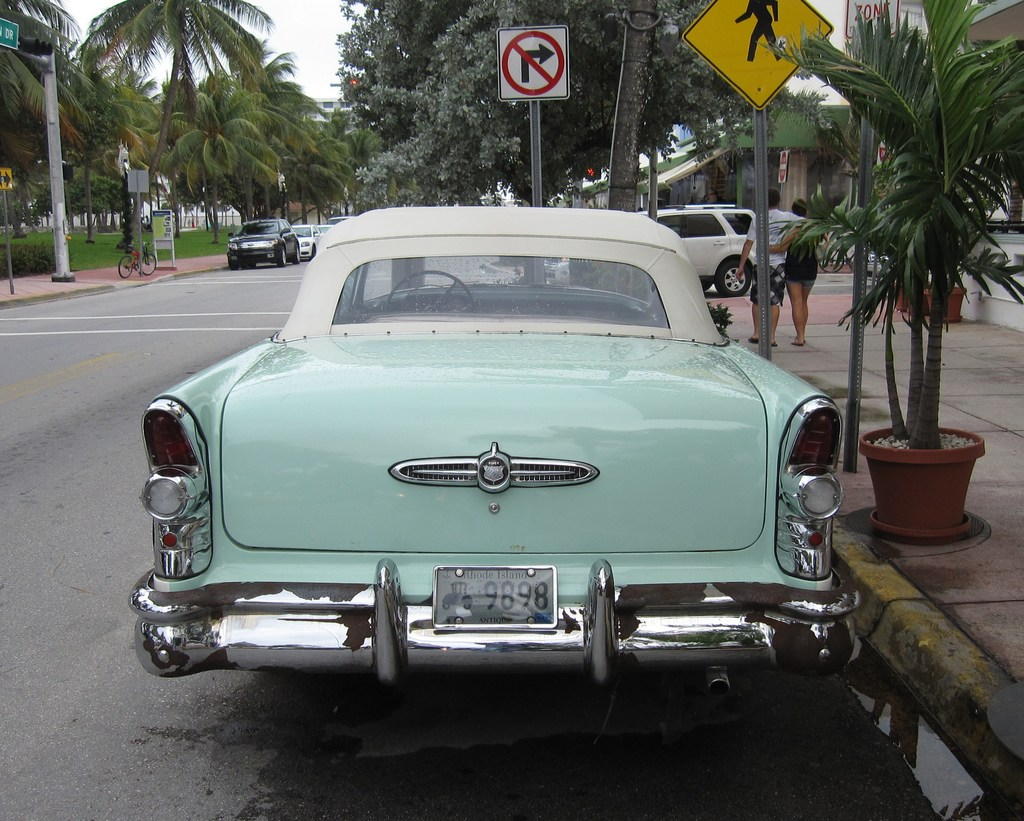car: (130, 212, 891, 688), (599, 196, 797, 313), (220, 208, 297, 263)
